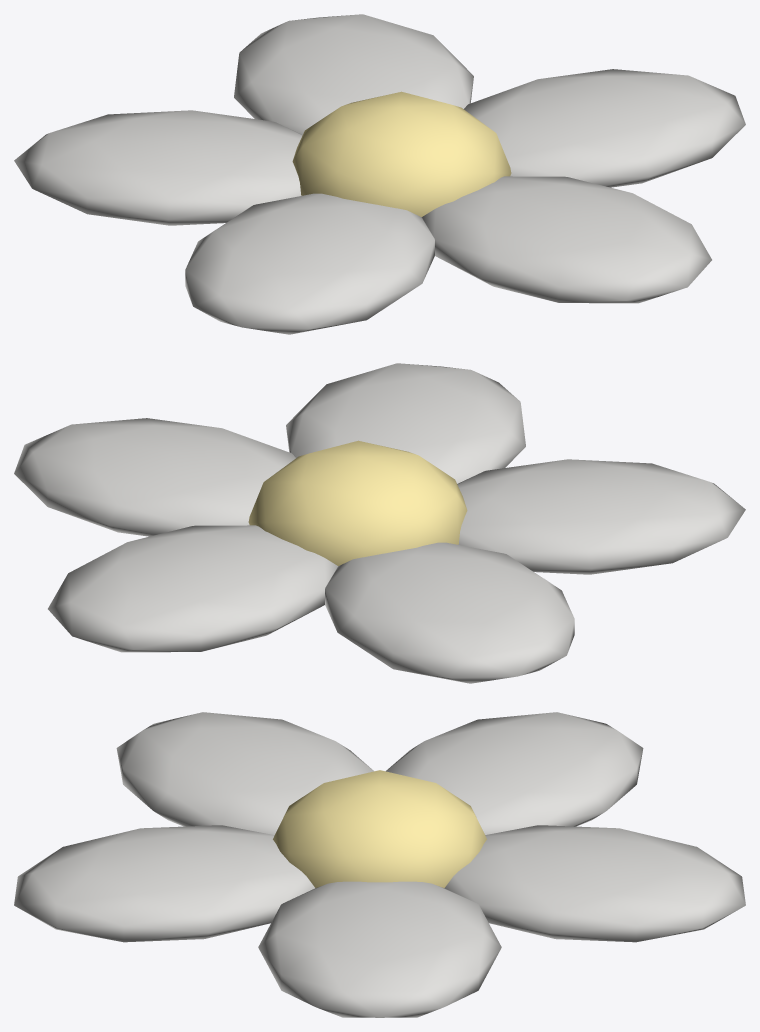
The model's file is flower_white.glb.
The picture shows the model from 3 angles, top to bottom: view 1: azimuth 30°, elevation 25°; view 2: azimuth 150°, elevation 25°; view 3: azimuth 270°, elevation 25°; orthographic projection.
Parts seen in each view (by area): view 1: petal4, petal3, petal2, petal0, center, petal1; view 2: petal1, petal2, petal3, petal0, center, petal4; view 3: petal1, petal4, petal0, petal2, petal3, center.
Part boxes in pixels (x1,y1,x2,y2): petal4: [421, 176, 711, 303]; petal3: [185, 193, 434, 334]; petal2: [14, 110, 302, 225]; petal0: [464, 69, 745, 187]; center: [292, 91, 511, 216]; petal1: [234, 14, 473, 134]; petal1: [48, 525, 338, 652]; petal2: [325, 542, 574, 683]; petal3: [457, 459, 745, 574]; petal0: [14, 418, 295, 536]; center: [248, 440, 467, 565]; petal4: [286, 363, 525, 483]; petal1: [445, 825, 745, 942]; petal4: [14, 825, 314, 942]; petal0: [258, 881, 501, 1017]; petal2: [386, 712, 643, 834]; petal3: [116, 712, 373, 834]; center: [273, 770, 486, 887].
Bounding box in the file's own units: 0.0223 × 0.0044 × 0.0228.
